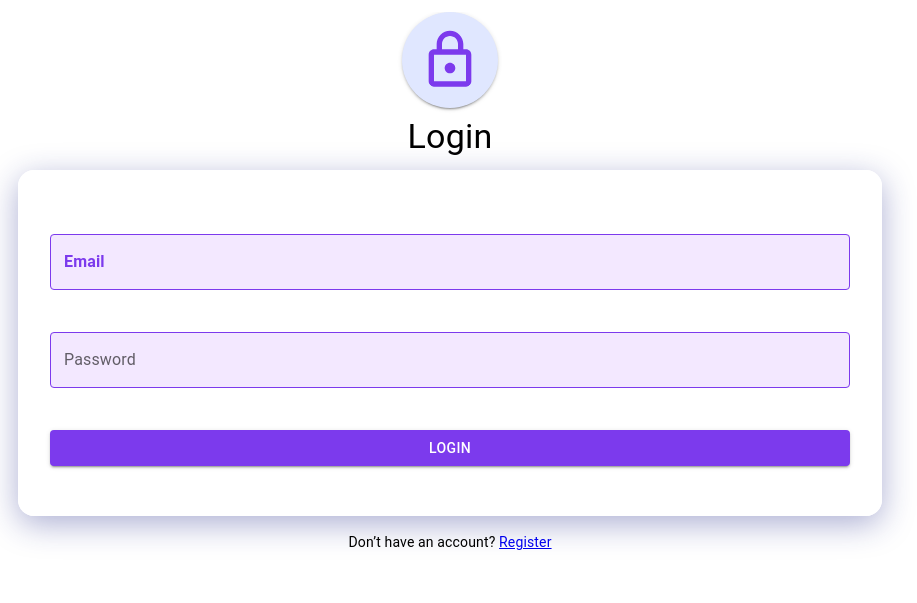
Test case: Login Page › shows error if email and password are empty
Click the button "Login".
click(450, 448)  # box [50,430,850,466]
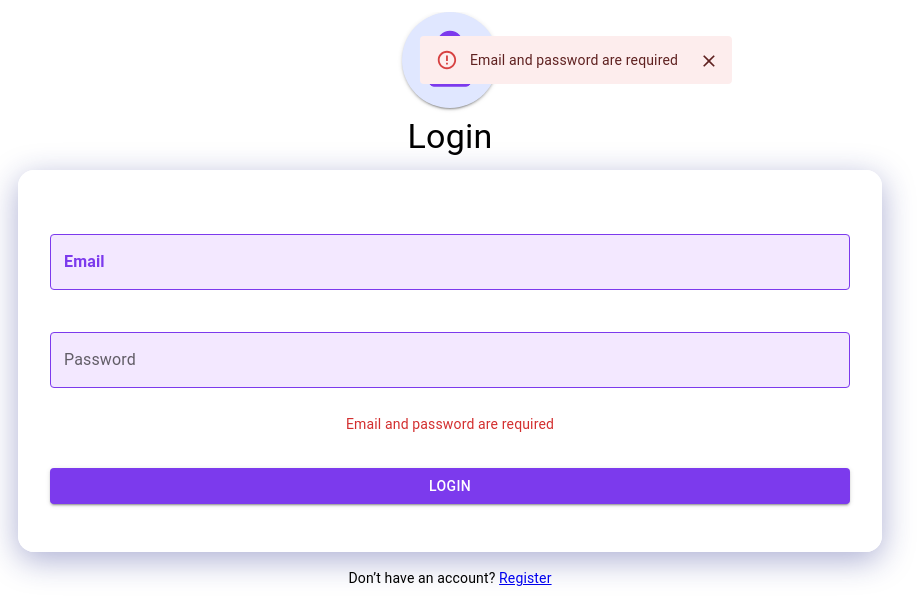
Check: the 1st text "Email and password are required" is shown, box [470,52,678,68]
